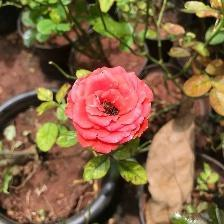rose: (68, 67, 154, 157)
